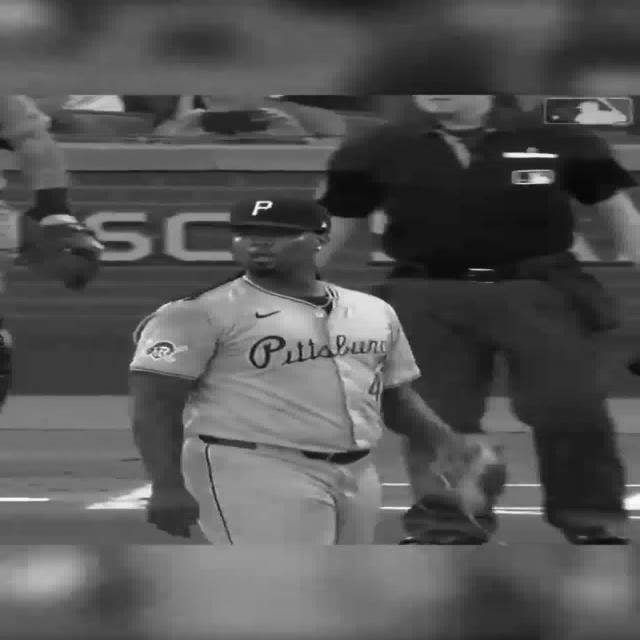baseball_glove: (404, 466, 505, 546), (19, 218, 116, 287)
shoe: (563, 520, 624, 547)
